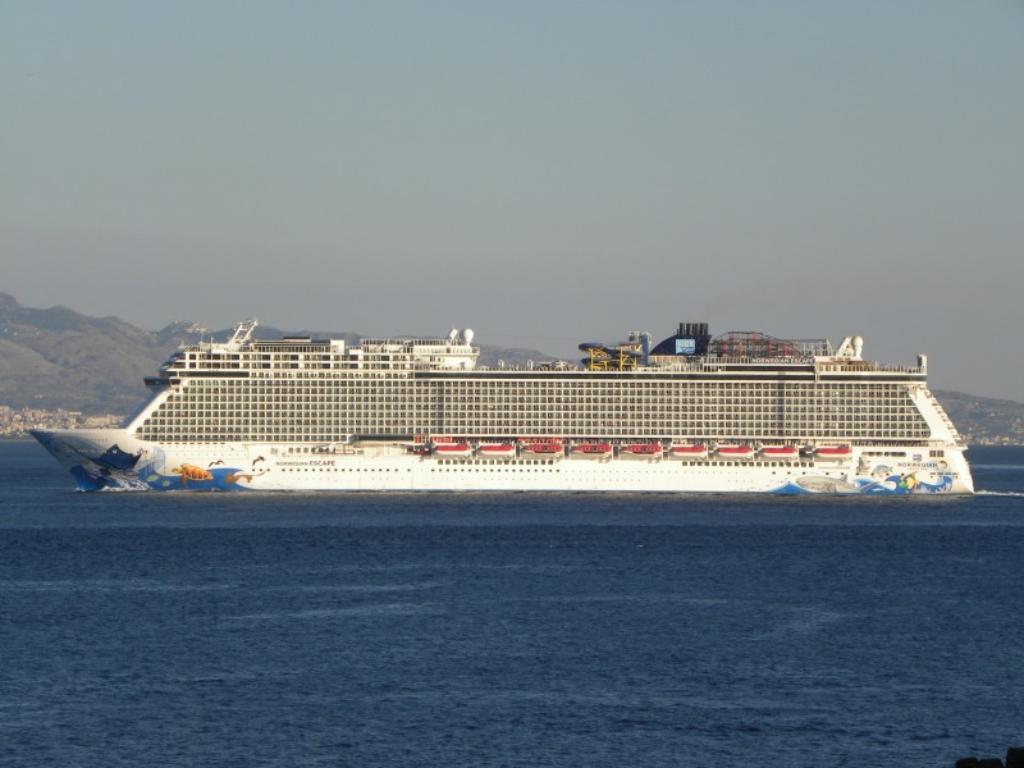PassengerShip: (19, 319, 973, 505)
